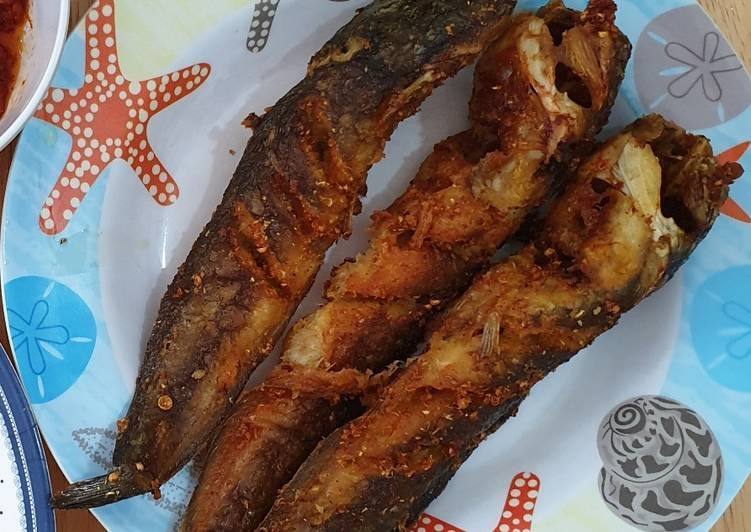pecel_lele: (172, 8, 627, 528), (79, 0, 519, 517), (259, 131, 732, 532)
